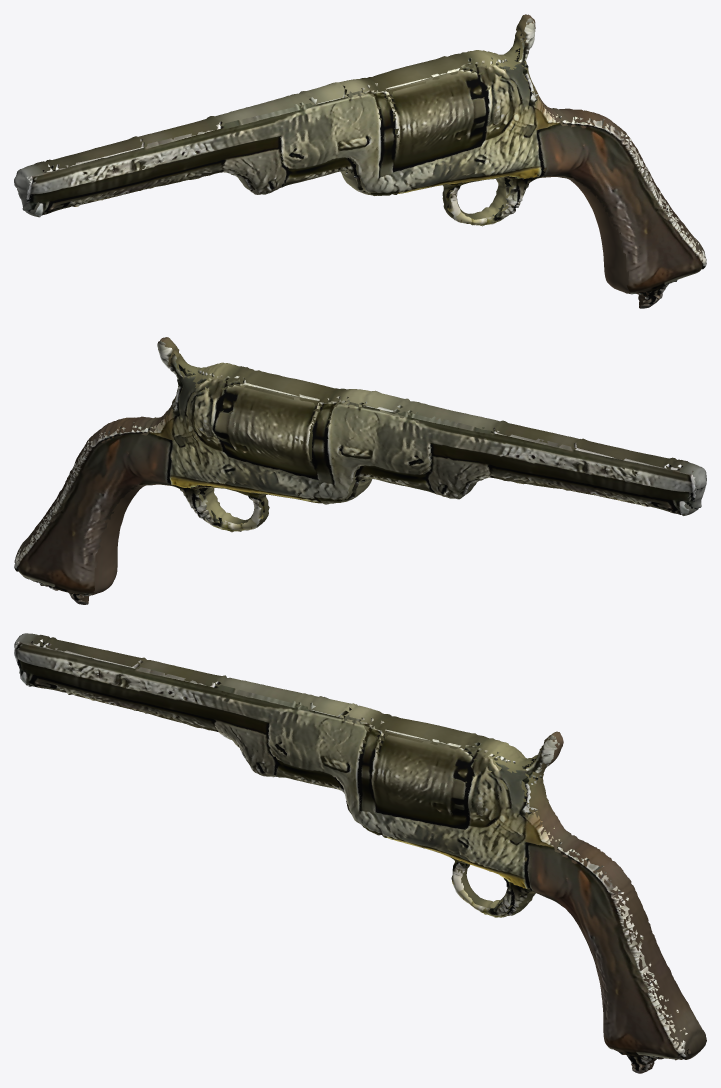
File: kfl-2173.glb
3 views of the same model, one above another, from view 1: azimuth 30°, elevation 25°; view 2: azimuth 150°, elevation 25°; view 3: azimuth 330°, elevation 25° (orthographic).
Visible parts, largest first — view 1: kfl-2173; view 2: kfl-2173; view 3: kfl-2173.
Boxes of the visible parts, bbox=[...] form: kfl-2173: bbox=[14, 14, 706, 308]; kfl-2173: bbox=[14, 337, 706, 604]; kfl-2173: bbox=[14, 633, 706, 1073].
Bounding box in the file's own units: 0.9896 × 0.4184 × 0.1204.
Materials: 4 (4 with a texture image).
